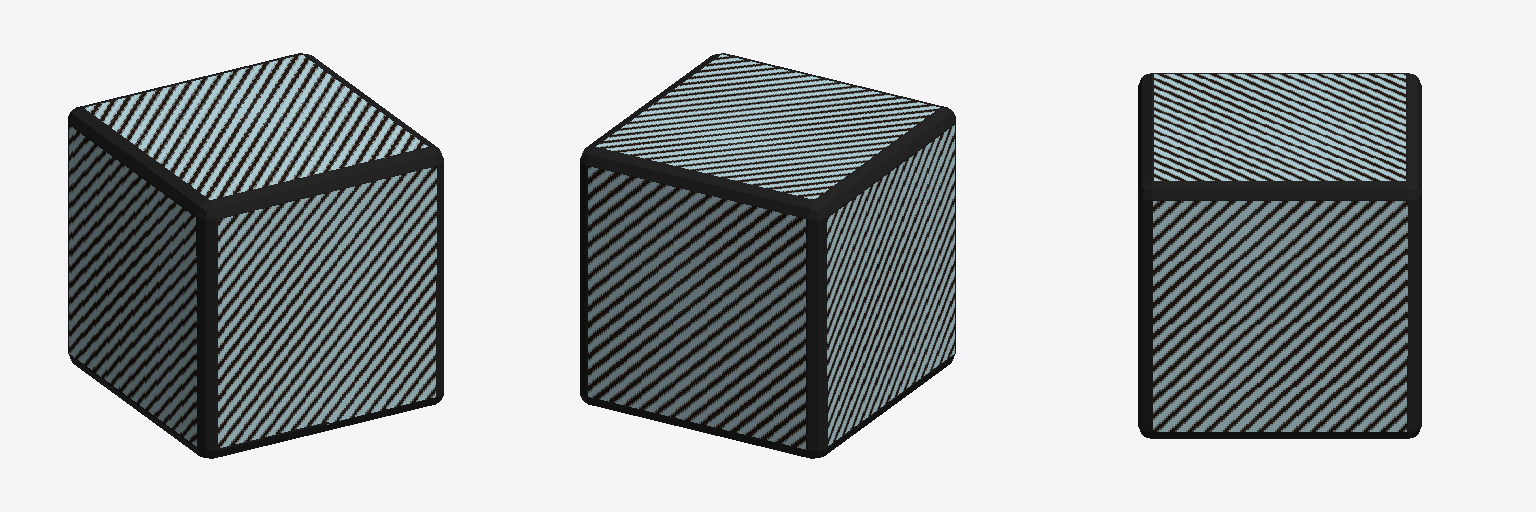
3 renders of one model, left to right at view 1: azimuth 30°, elevation 25°; view 2: azimuth 150°, elevation 25°; view 3: azimuth 270°, elevation 25°, orthographic.
Visible parts, largest first — view 1: Cube; view 2: Cube; view 3: Cube.
Part boxes in pixels (left/top/right/bottom): Cube: left=68, top=53, right=443, bottom=458; Cube: left=580, top=53, right=955, bottom=458; Cube: left=1138, top=73, right=1421, bottom=438.
Size of the model in its own units: 1 by 1 by 1.
Materials: 1 (1 with a texture image).